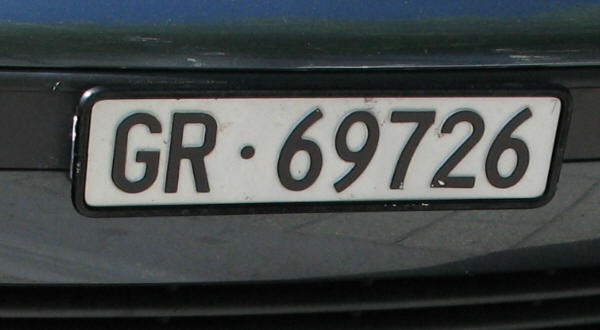license_plate: (81, 94, 565, 216)
